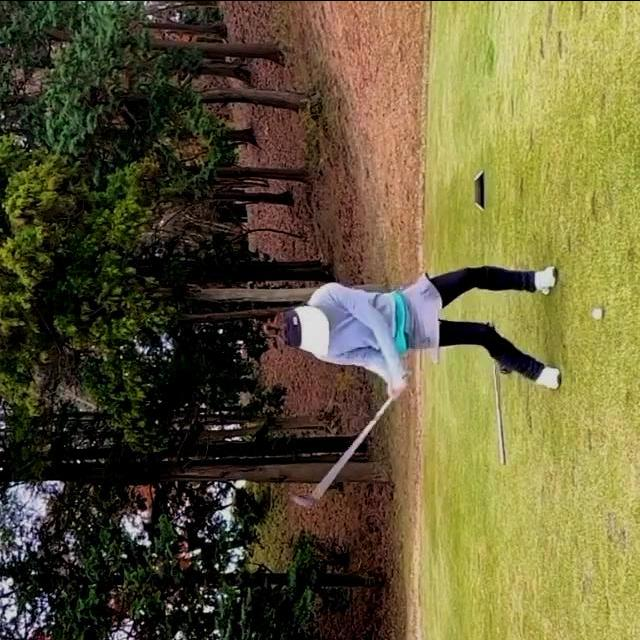golf ball: (593, 308, 603, 319)
golf club-handle: (291, 372, 410, 506)
golf club-head: (291, 492, 314, 506)
